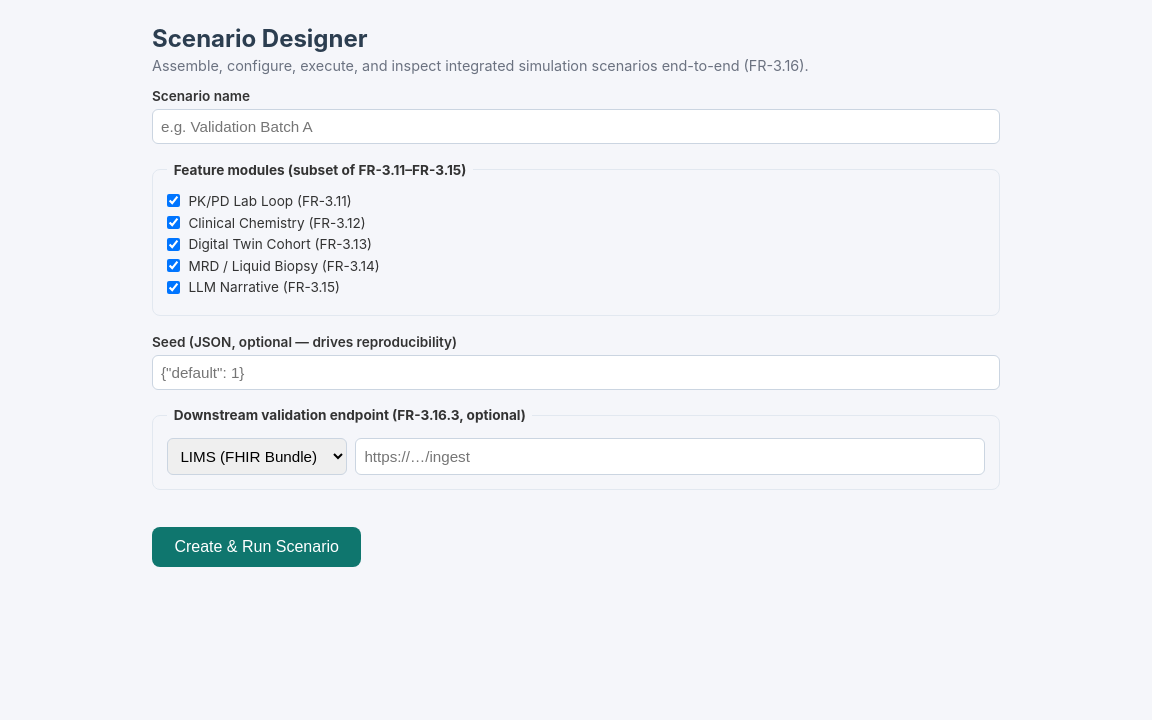
Scenario: NFR-U4 — Scenario Designer assembled & executed in <=5 interactions › tightest valid custom subset (1 module): 4 deselects + run = 5 interactions
Click the checkbox labelled "PK/PD Lab Loop (FR-3.11)": (174, 201) [167,194,180,208]
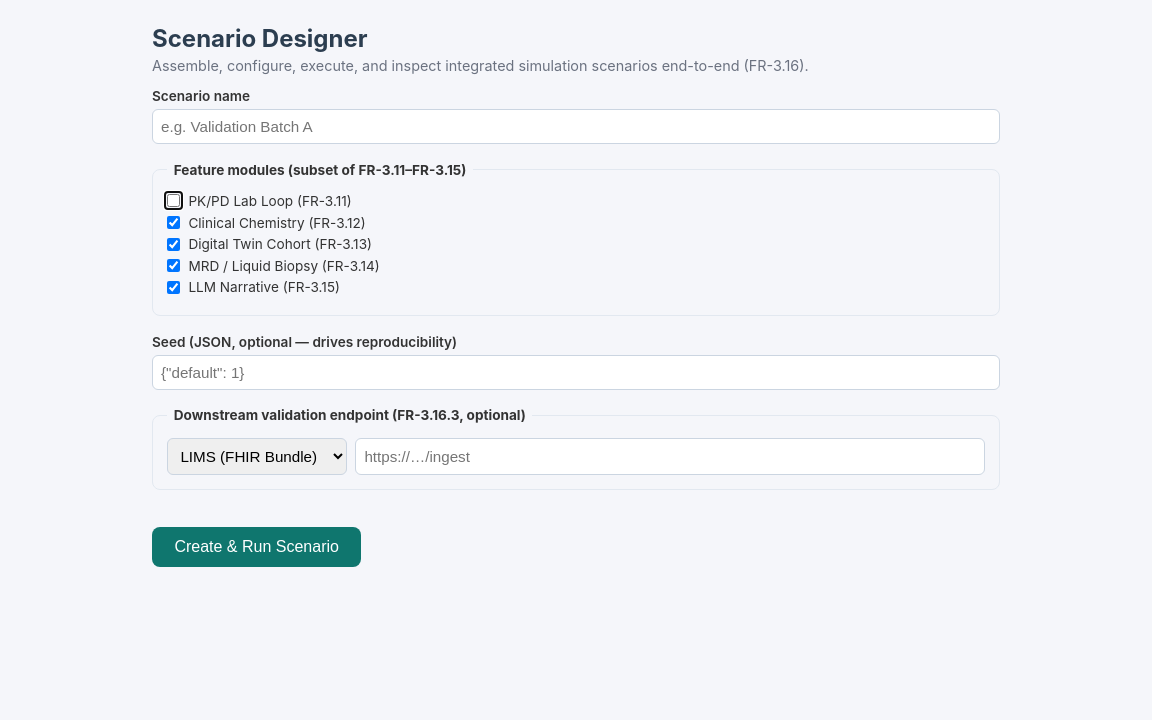
Click the checkbox labelled "Clinical Chemistry (FR-3.12)": (174, 223) [167,216,180,229]
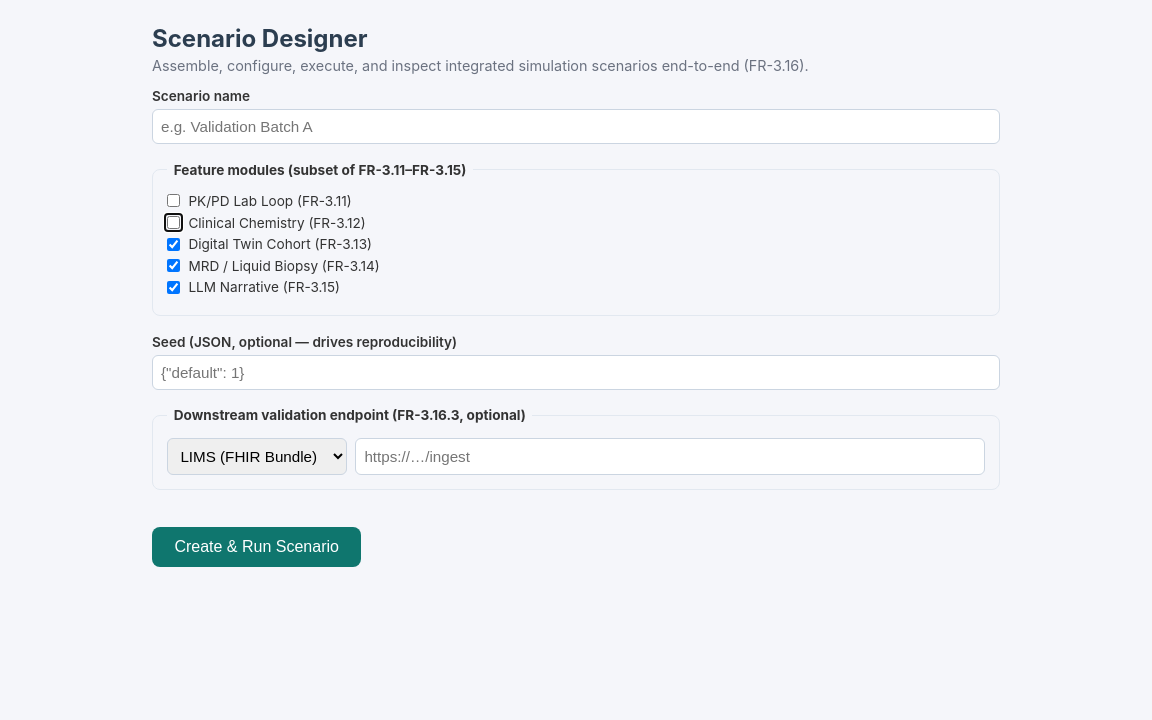
Click the checkbox labelled "Digital Twin Cohort (FR-3.13)": (174, 244) [167,238,180,251]
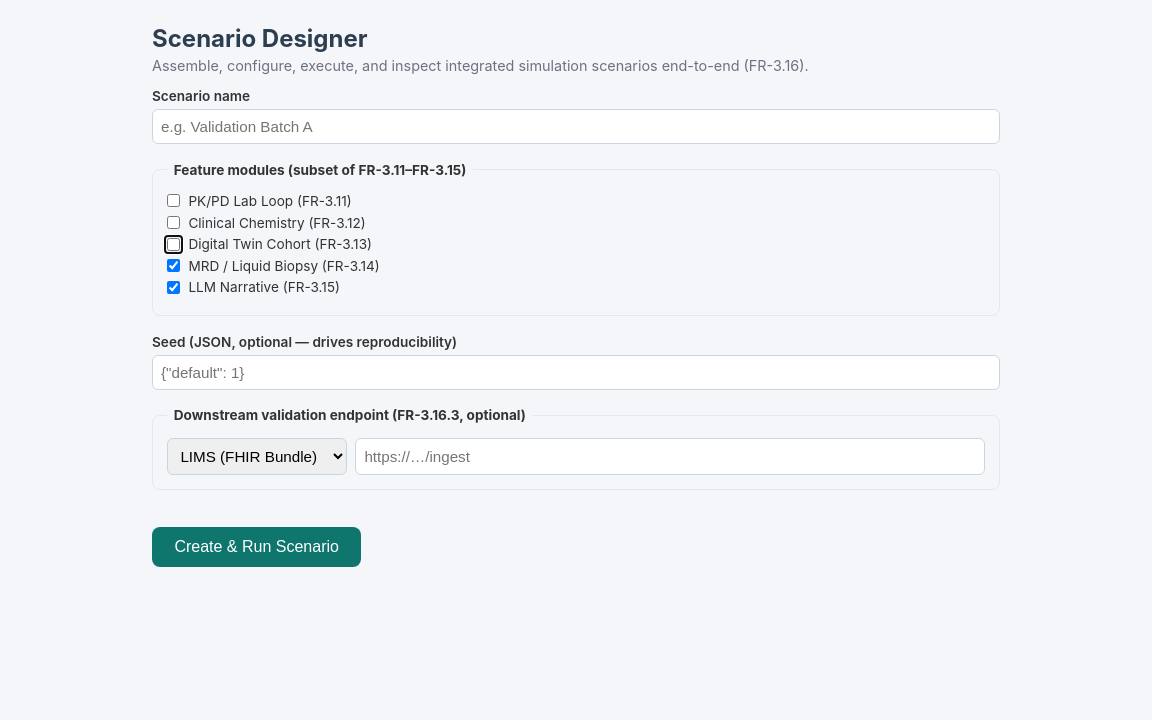
Click the checkbox labelled "MRD / Liquid Biopsy (FR-3.14)": (174, 266) [167,259,180,272]
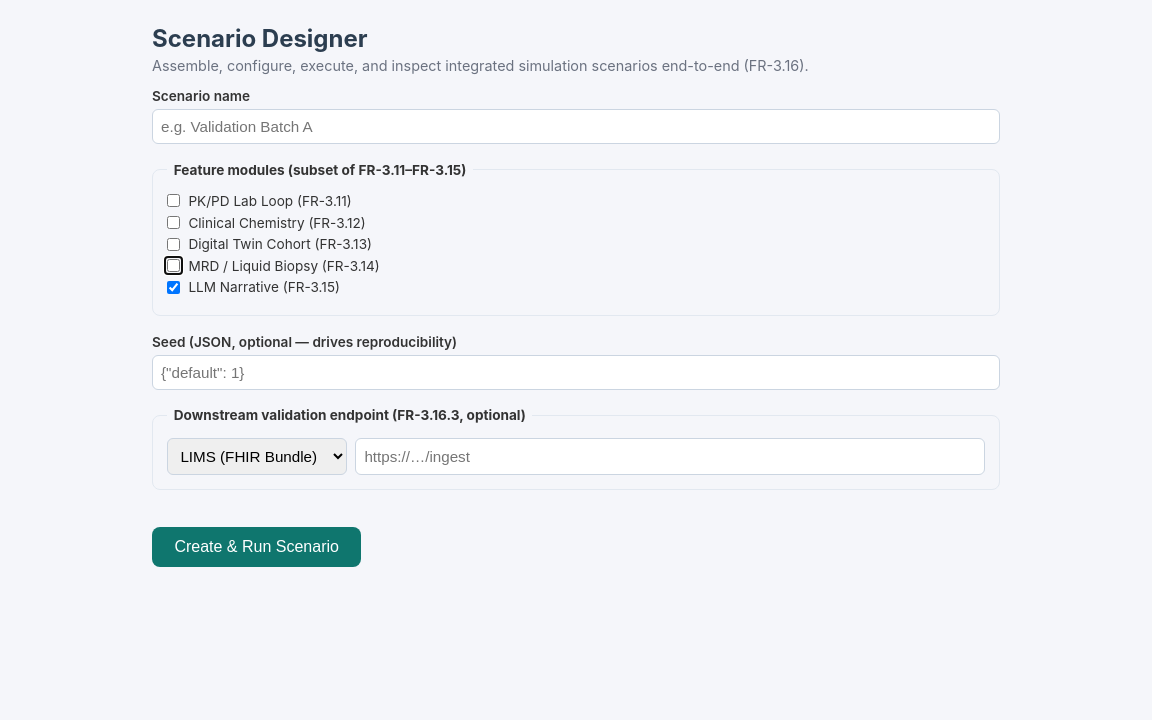
Click the button "Create & Run Scenario": (257, 547) [152,527,361,567]
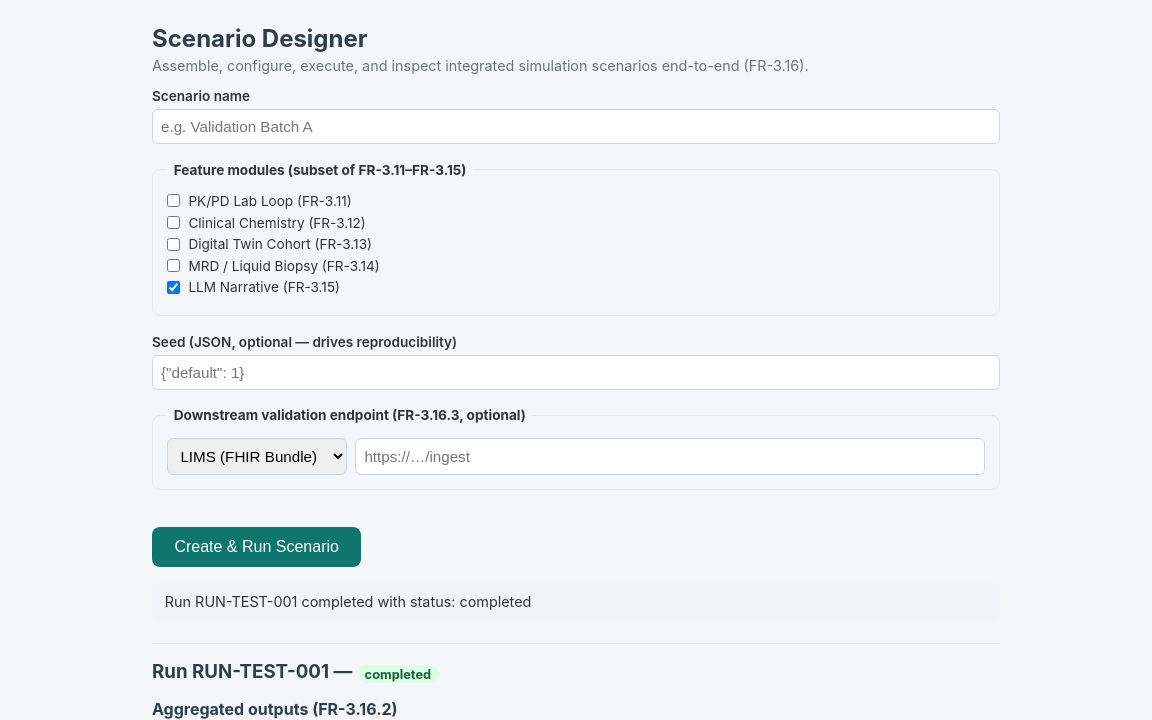
Expected: the text "Run RUN-TEST-001 completed with status: completed" is shown, [152,583,1000,620]
